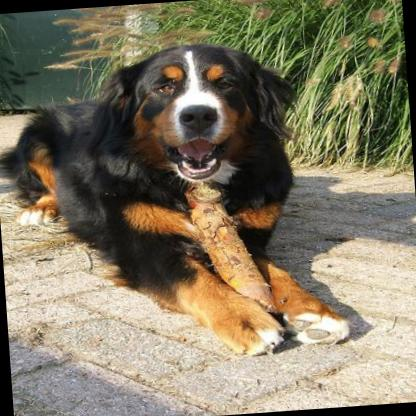Bernese_mountain_dog: (0, 36, 347, 373)
